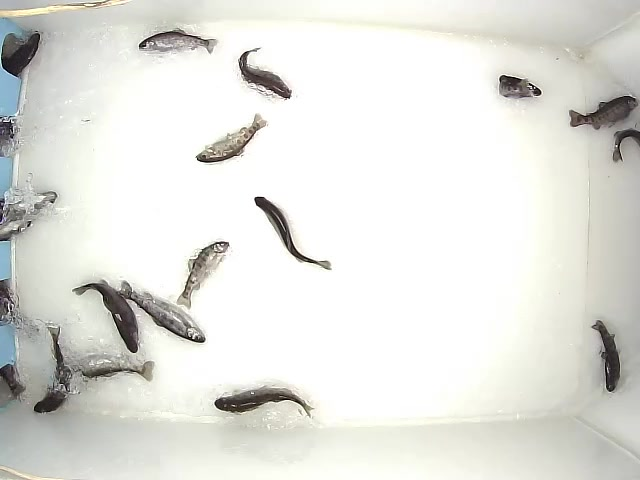fish: (253, 194, 332, 271), (115, 278, 207, 344), (70, 279, 140, 354), (176, 240, 231, 312), (194, 112, 269, 164), (213, 384, 317, 420), (32, 325, 70, 414), (237, 46, 293, 101), (67, 350, 157, 384), (566, 94, 640, 131), (590, 318, 621, 393), (137, 28, 219, 56), (497, 74, 543, 100), (611, 126, 640, 164)
